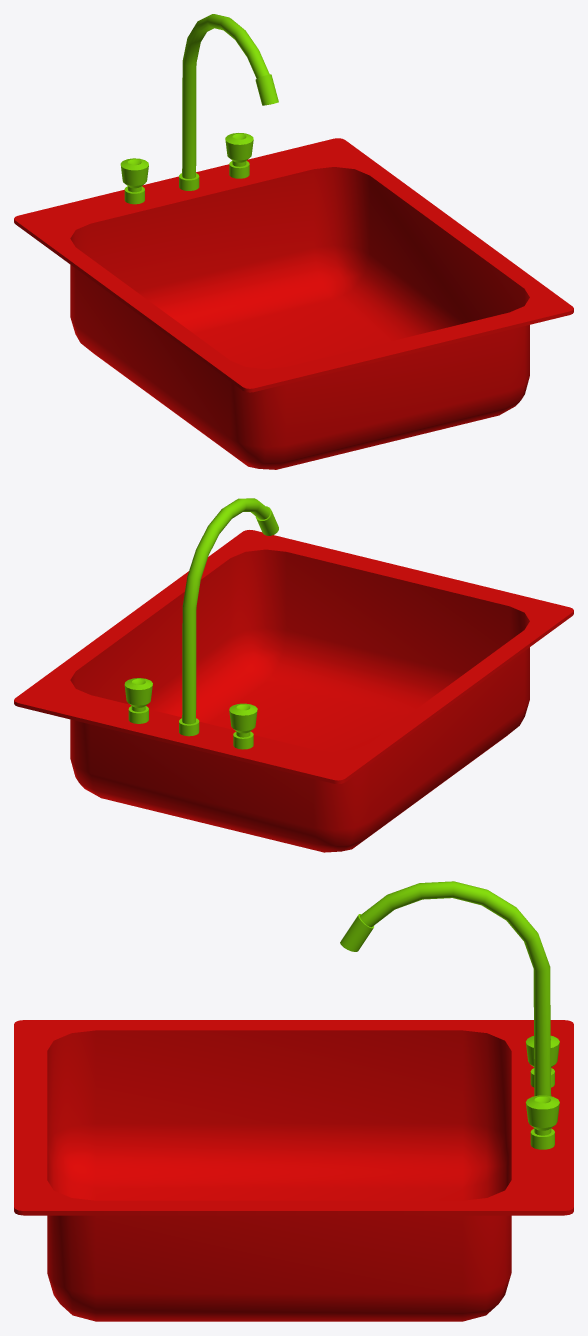
Rendered from sink.fbx.
3 renders of one model, top to bottom at view 1: azimuth 30°, elevation 25°; view 2: azimuth 150°, elevation 25°; view 3: azimuth 270°, elevation 25°, orthographic. The views are drawn at different scales.
Visible parts, largest first — view 1: sink; view 2: sink; view 3: sink.
Boxes of the visible parts, x1,y1,x2,y2 form: sink: (14,14,573,469); sink: (14,498,573,852); sink: (14,881,573,1321).
Size of the model in its own units: 6.95 by 8.6 by 6.28.
